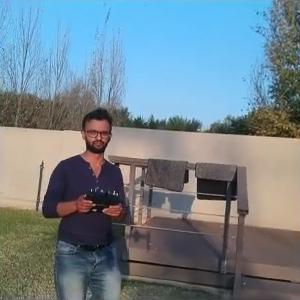follow: (36, 103, 128, 299)
